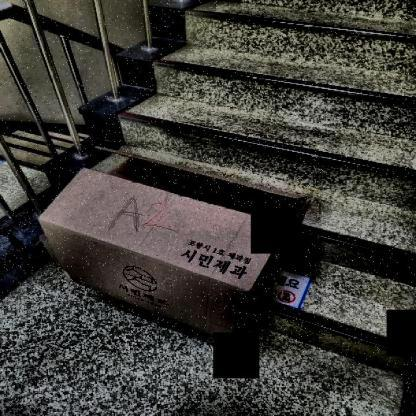-: (27, 142, 321, 351)
